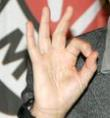left: (22, 4, 100, 111)
